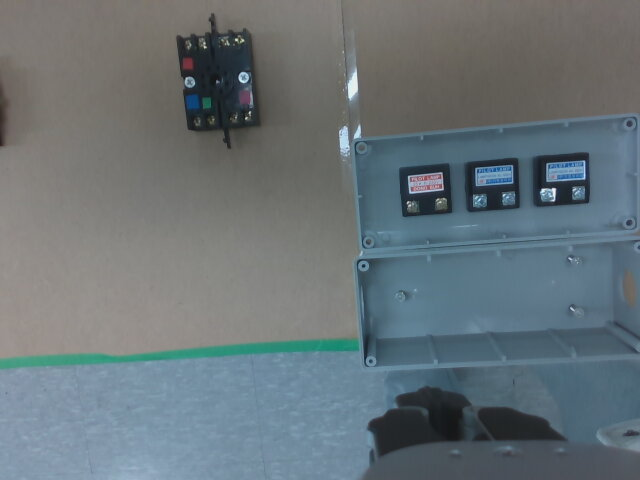L1(1): (405, 201, 419, 212)
L1(2): (434, 198, 447, 209)
L2(1): (473, 194, 487, 206)
L2(2): (502, 193, 515, 204)
L3(1): (541, 187, 555, 202)
L3(2): (572, 187, 586, 199)
